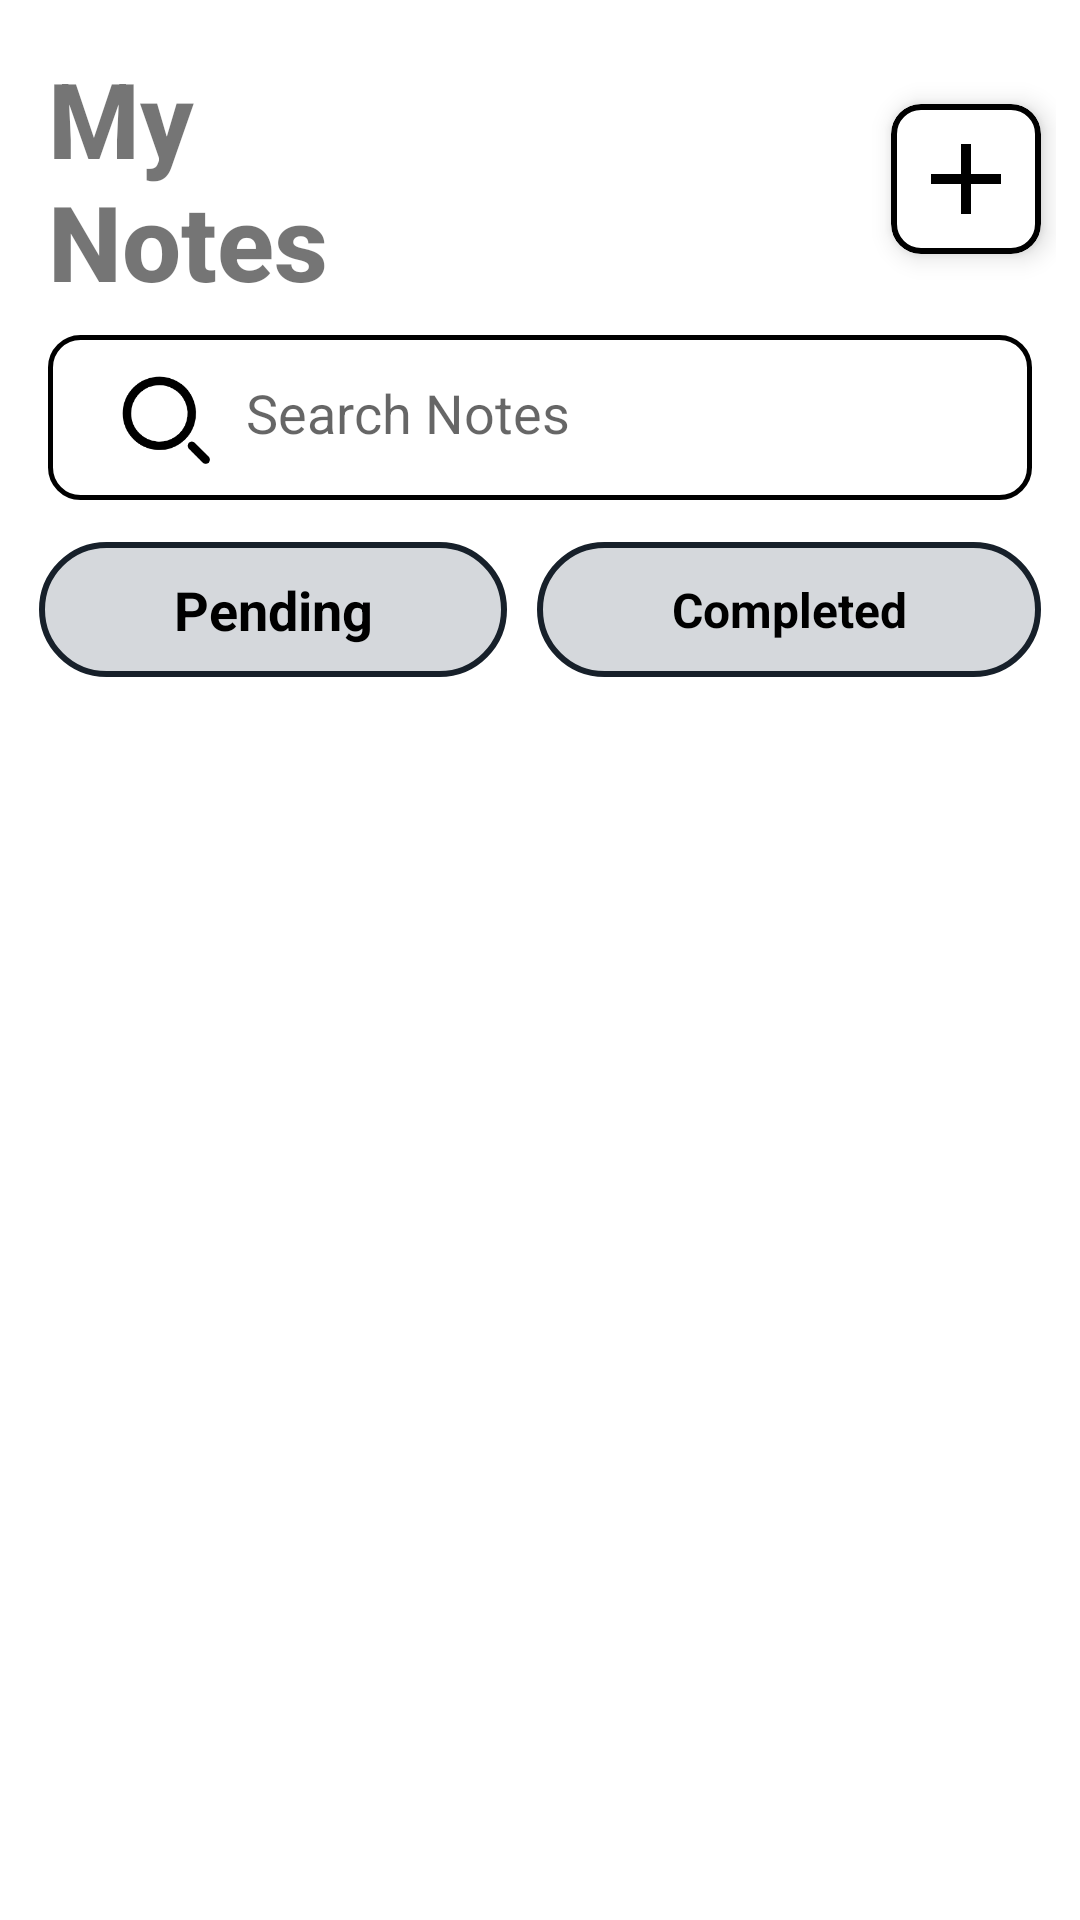

Icon bounding boxes for this 1080 x 1920 phone screenshot, format (x1,y1,x2,y2):
add: (931,144,1001,214)
